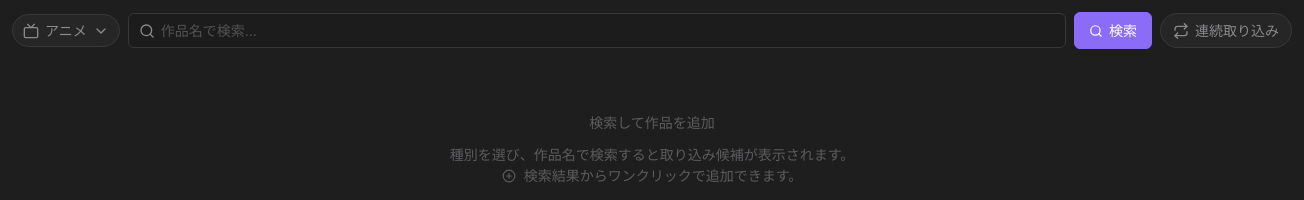
Test case: MediaSearchPage › marks an item as imported when the API returns ITEM_ALREADY_IMPORTED
Type "境界" into the field labelled "作品名". click: (608, 30)
box: top-left (161, 20), bottom-right (1055, 41)
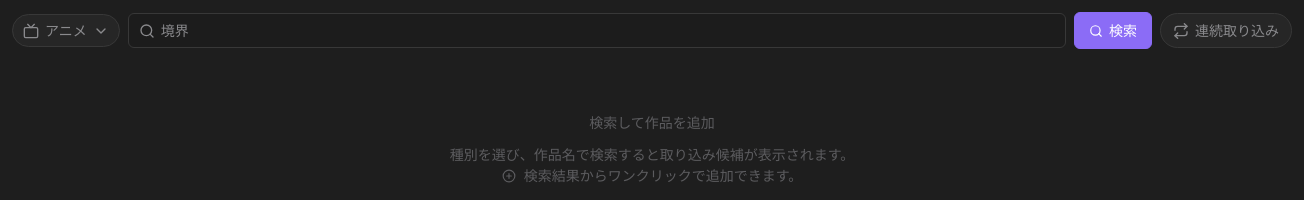
Click the button "検索". click: (1113, 30)
box: top-left (1074, 12), bottom-right (1152, 49)
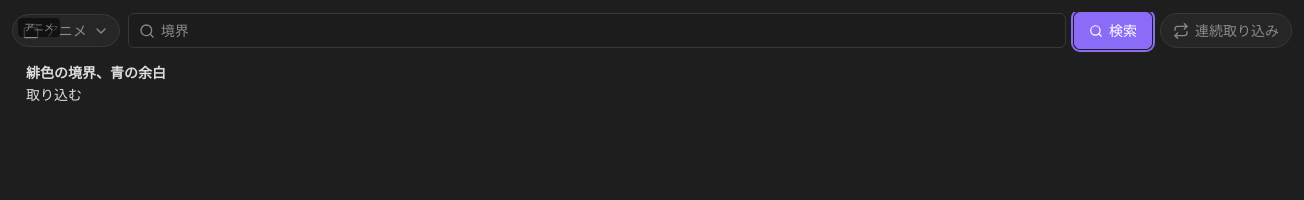
Result: the text "緋色の境界、青の余白" is shown at top-left (26, 66), bottom-right (166, 81)
Click the button "取り込む". click: (54, 94)
box: top-left (26, 84), bottom-right (82, 105)
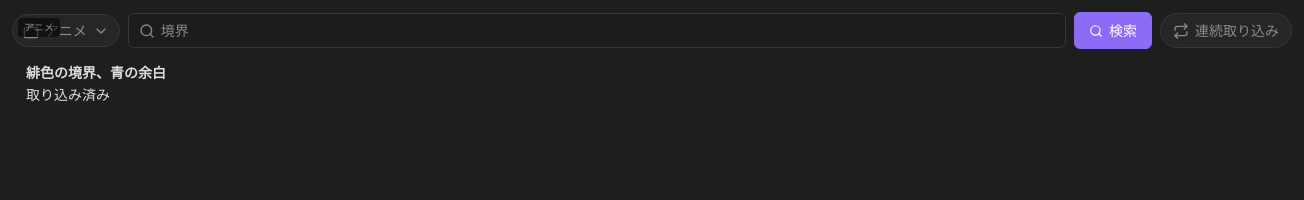
Result: the button "取り込み済み" is disabled at top-left (26, 84), bottom-right (110, 105)
